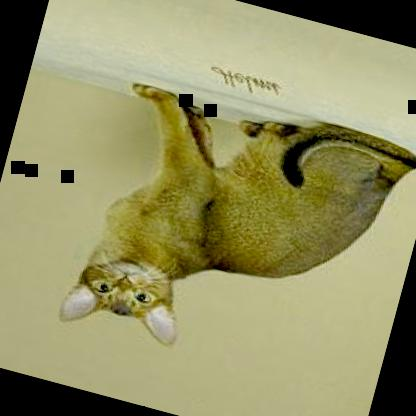cat: (53, 66, 415, 404)
